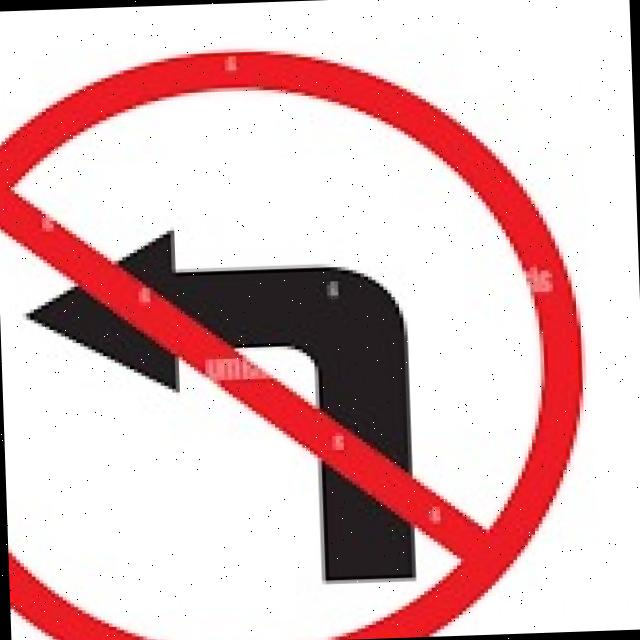do_not_turn_right: (0, 26, 599, 640)
